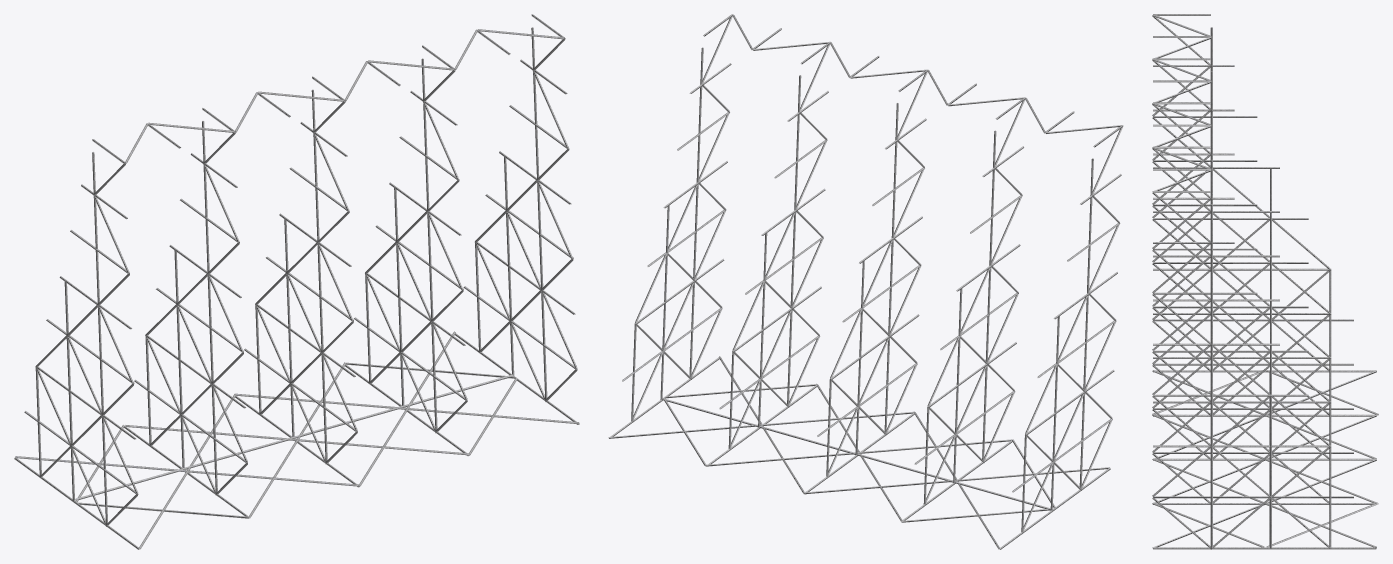
File: _0TRIBUENE_02_028_SUB2_Scene.200.obj
The picture shows the model from 3 angles, left to right: view 1: azimuth 30°, elevation 25°; view 2: azimuth 150°, elevation 25°; view 3: azimuth 270°, elevation 25°; orthographic projection. The views are drawn at different scales.
Visible parts, largest first — view 1: _0TRIBUENE_02_028_SUB2_Scene.200; view 2: _0TRIBUENE_02_028_SUB2_Scene.200; view 3: _0TRIBUENE_02_028_SUB2_Scene.200.
Part boxes in pixels (x1,y1,x2,y2): _0TRIBUENE_02_028_SUB2_Scene.200: (14,14,579,549); _0TRIBUENE_02_028_SUB2_Scene.200: (608,14,1123,549); _0TRIBUENE_02_028_SUB2_Scene.200: (1152,14,1378,549).
Bounding box in the file's own units: 33.19 × 28.48 × 15.91.
